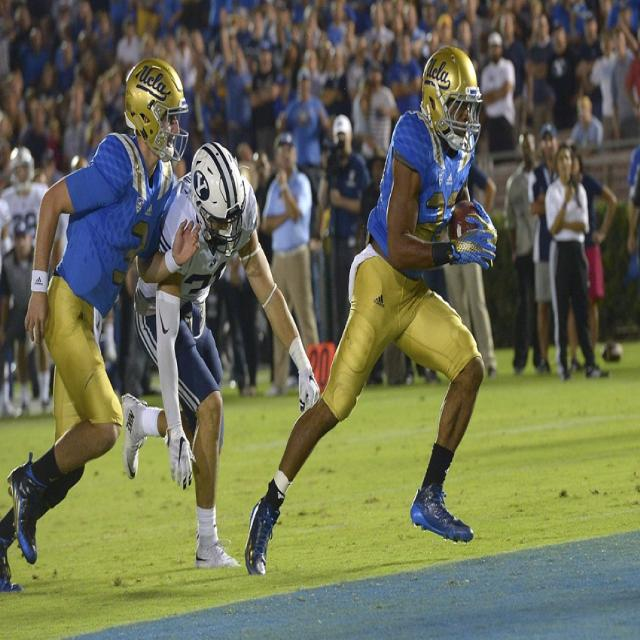body: (241, 41, 506, 579), (0, 50, 195, 602), (116, 130, 326, 573), (0, 1, 122, 172), (259, 127, 322, 393), (545, 141, 612, 385), (123, 0, 392, 60), (53, 151, 107, 417), (269, 135, 323, 392), (528, 122, 582, 376), (438, 158, 499, 380), (316, 111, 371, 348), (567, 144, 619, 374), (276, 62, 334, 242), (505, 134, 542, 377), (229, 134, 262, 397), (246, 149, 280, 394), (432, 0, 576, 56), (579, 13, 637, 144), (0, 218, 41, 400), (106, 266, 153, 402), (2, 144, 51, 252), (570, 92, 605, 234), (480, 31, 516, 166), (498, 11, 534, 146), (219, 46, 252, 180), (248, 39, 282, 162), (544, 22, 582, 128), (607, 23, 640, 142), (526, 13, 556, 137), (350, 70, 374, 221), (575, 13, 604, 123), (304, 61, 366, 112), (388, 31, 424, 116), (366, 67, 399, 158), (626, 142, 640, 289), (196, 57, 220, 134), (404, 2, 428, 60), (0, 196, 13, 253)
